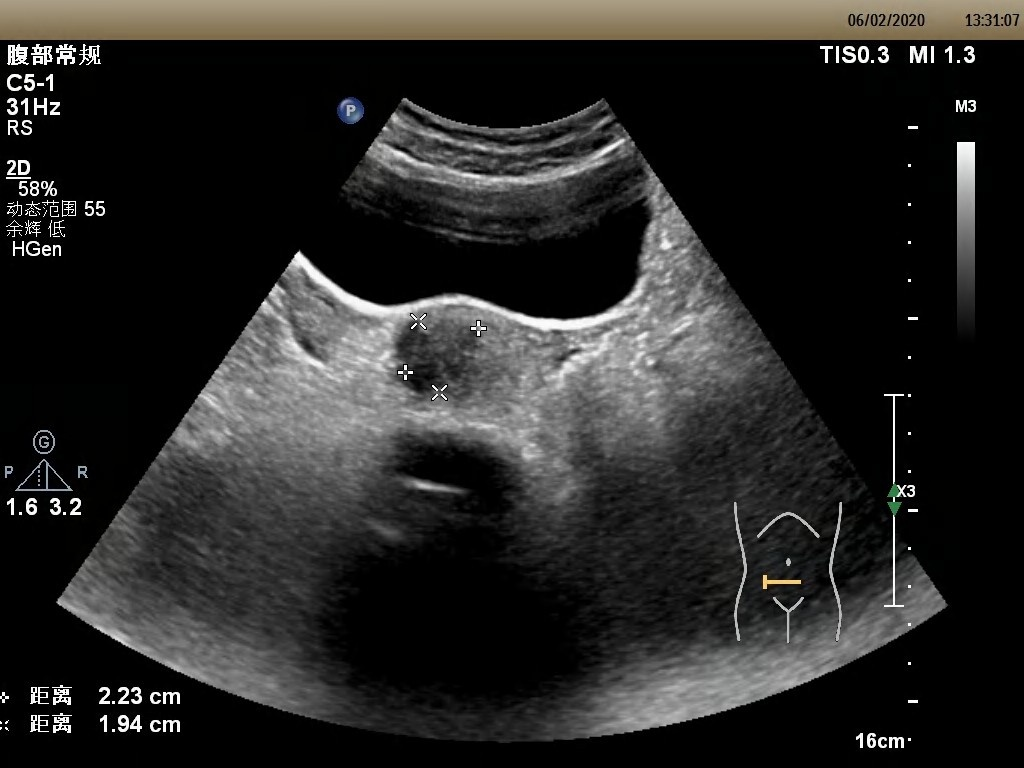肌瘤: (399, 319, 472, 396)
